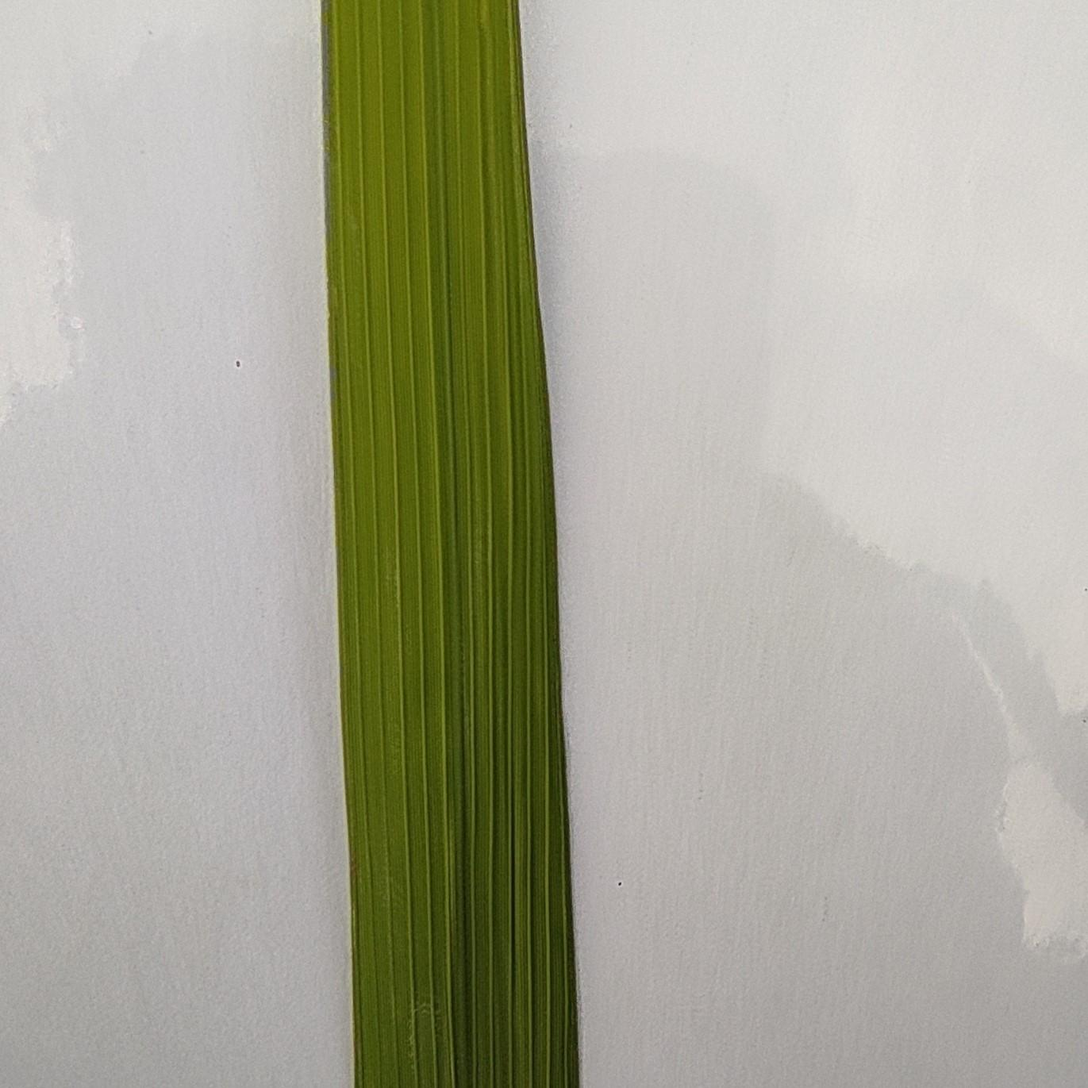Healthy: (325, 1, 578, 1086)
